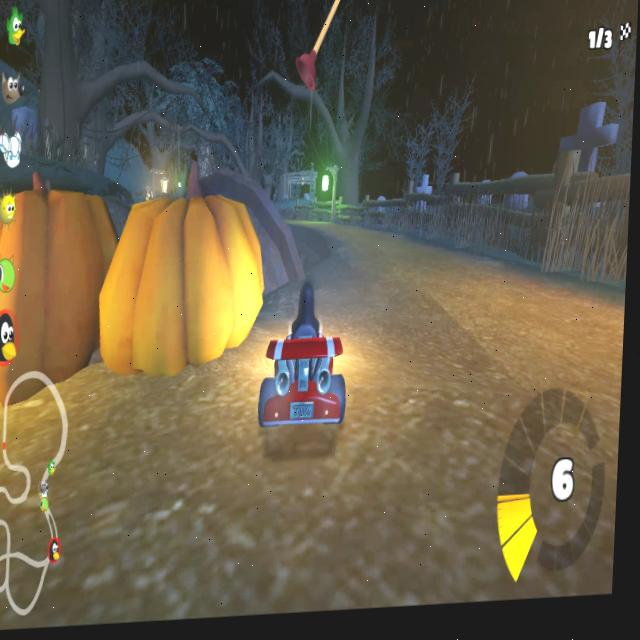obstacle: (98, 183, 271, 397)
player_kart: (254, 274, 362, 442)
